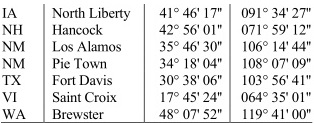column: (51, 1, 131, 122), (240, 1, 312, 122), (157, 1, 224, 122), (1, 1, 27, 123)
row: (1, 7, 314, 21), (1, 23, 314, 37), (1, 40, 314, 53), (1, 57, 314, 70), (1, 74, 314, 87), (1, 90, 314, 103), (1, 108, 314, 120)
